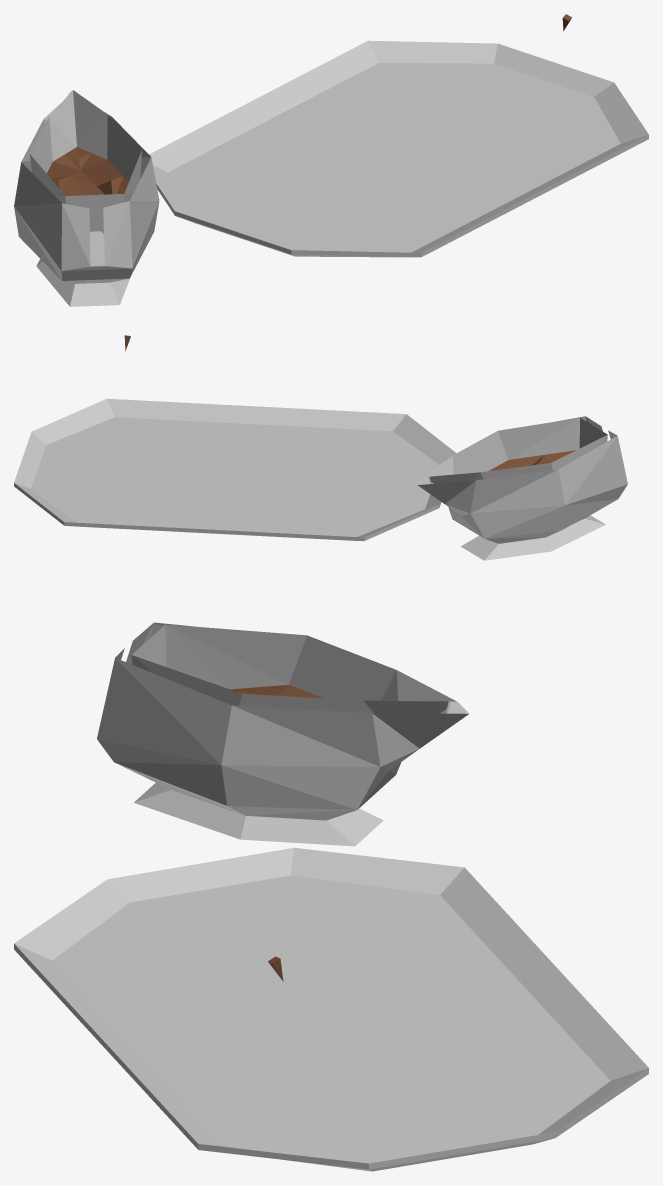
Rendered from platter_gravy.fbx.
3 renders of one model, top to bottom at view 1: azimuth 30°, elevation 25°; view 2: azimuth 150°, elevation 25°; view 3: azimuth 270°, elevation 25°, orthographic. The views are drawn at different scales.
Parts seen in each view (by area): view 1: platter, gravy_boat; view 2: platter, gravy_boat; view 3: platter, gravy_boat.
Part boxes in pixels (<box>): platter: <box>149,40,648,257</box>; gravy_boat: <box>14,90,159,306</box>; platter: <box>14,398,456,541</box>; gravy_boat: <box>417,416,627,560</box>; platter: <box>14,847,648,1171</box>; gravy_boat: <box>97,622,469,846</box>.
Bounding box in the file's own units: 1.91 × 0.3902 × 1.22.
1 material, 1 textured.
